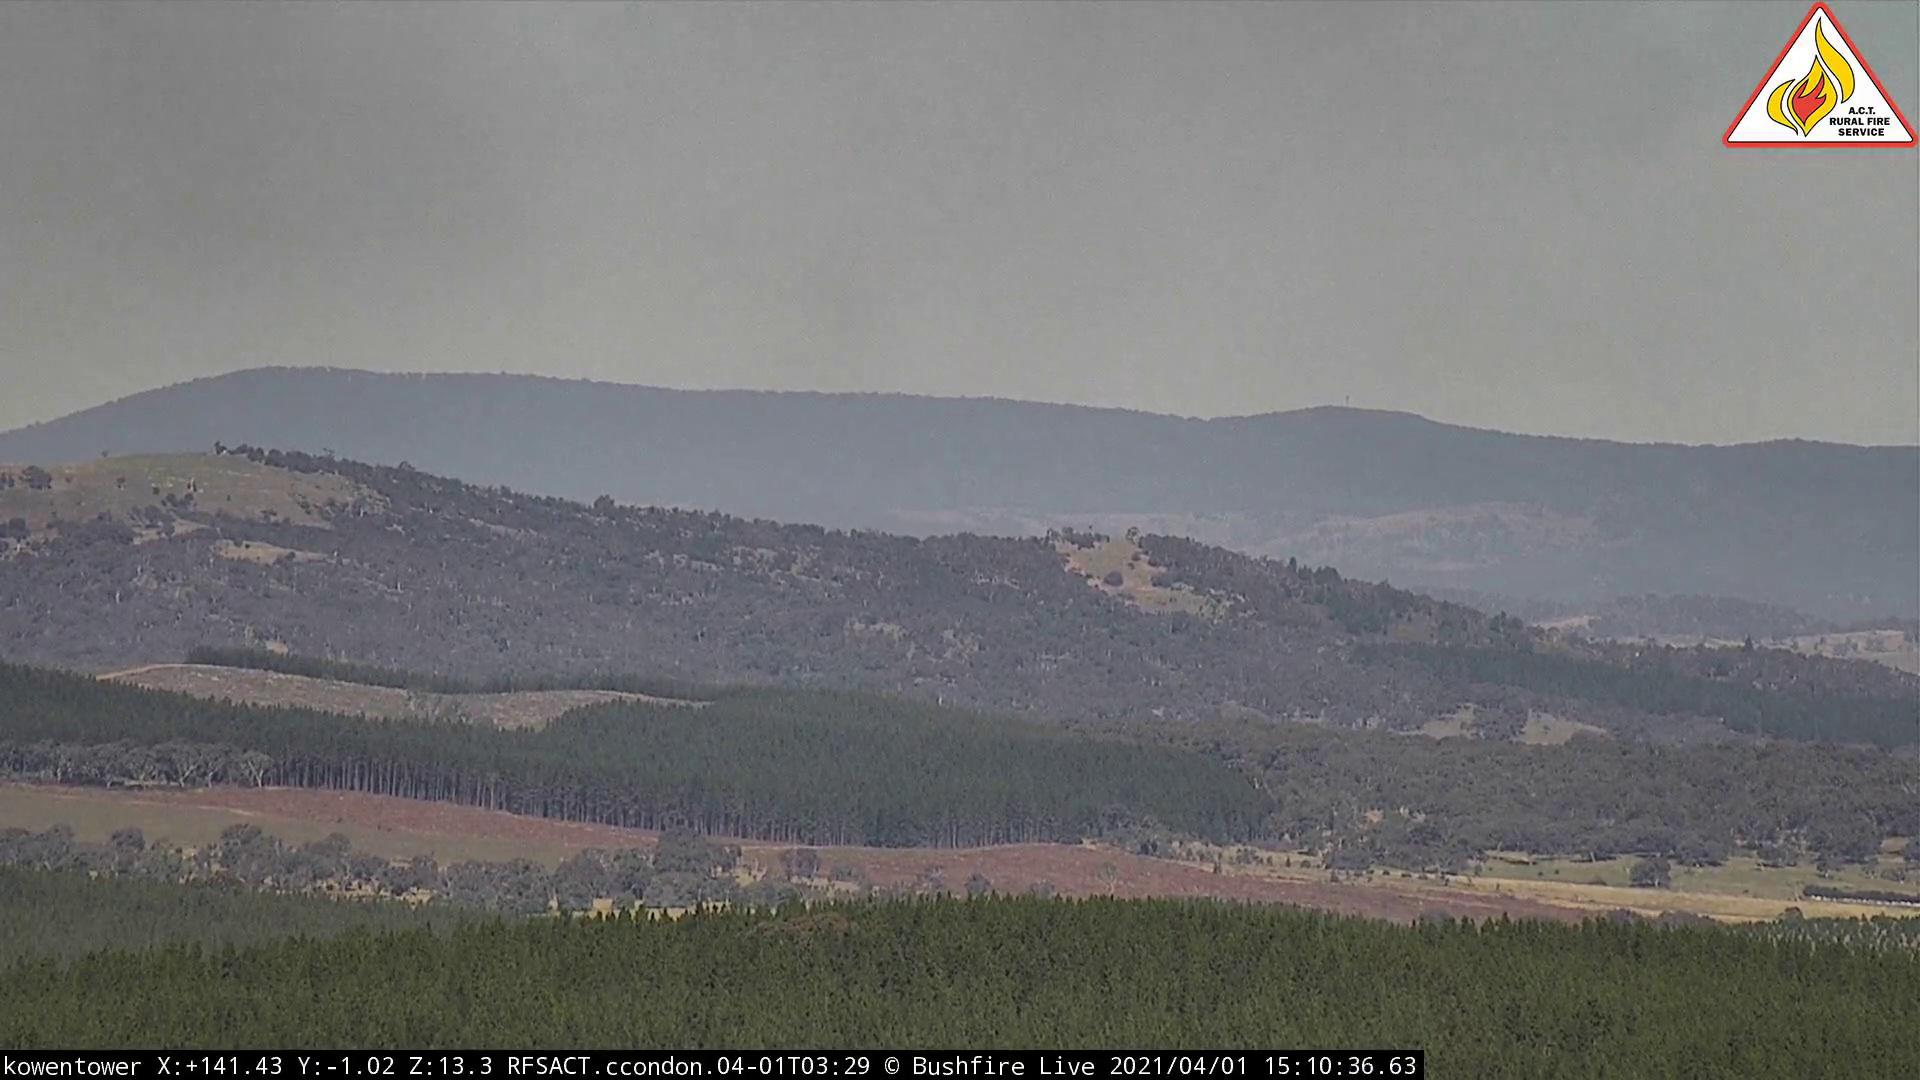Smoke: (3, 3, 611, 429)
